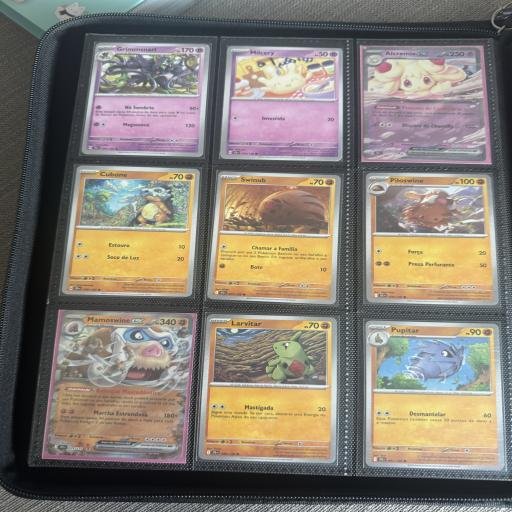card: (45, 309, 194, 460), (365, 319, 505, 471), (199, 313, 340, 463), (207, 169, 342, 305), (62, 165, 200, 297), (365, 172, 499, 306), (81, 42, 211, 157), (220, 46, 345, 161), (362, 47, 487, 162)
